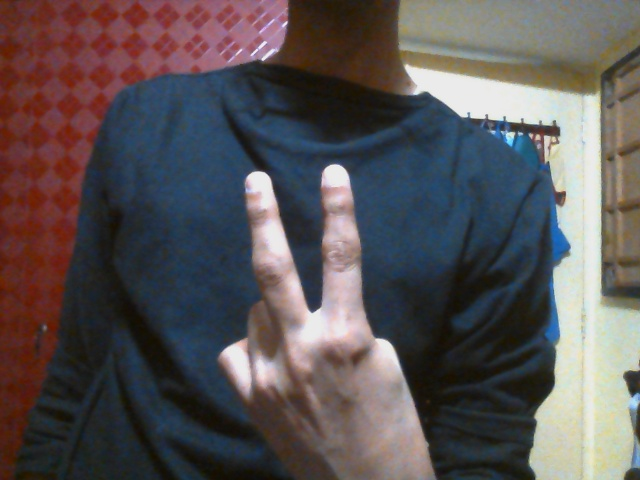V: (215, 163, 437, 469)
